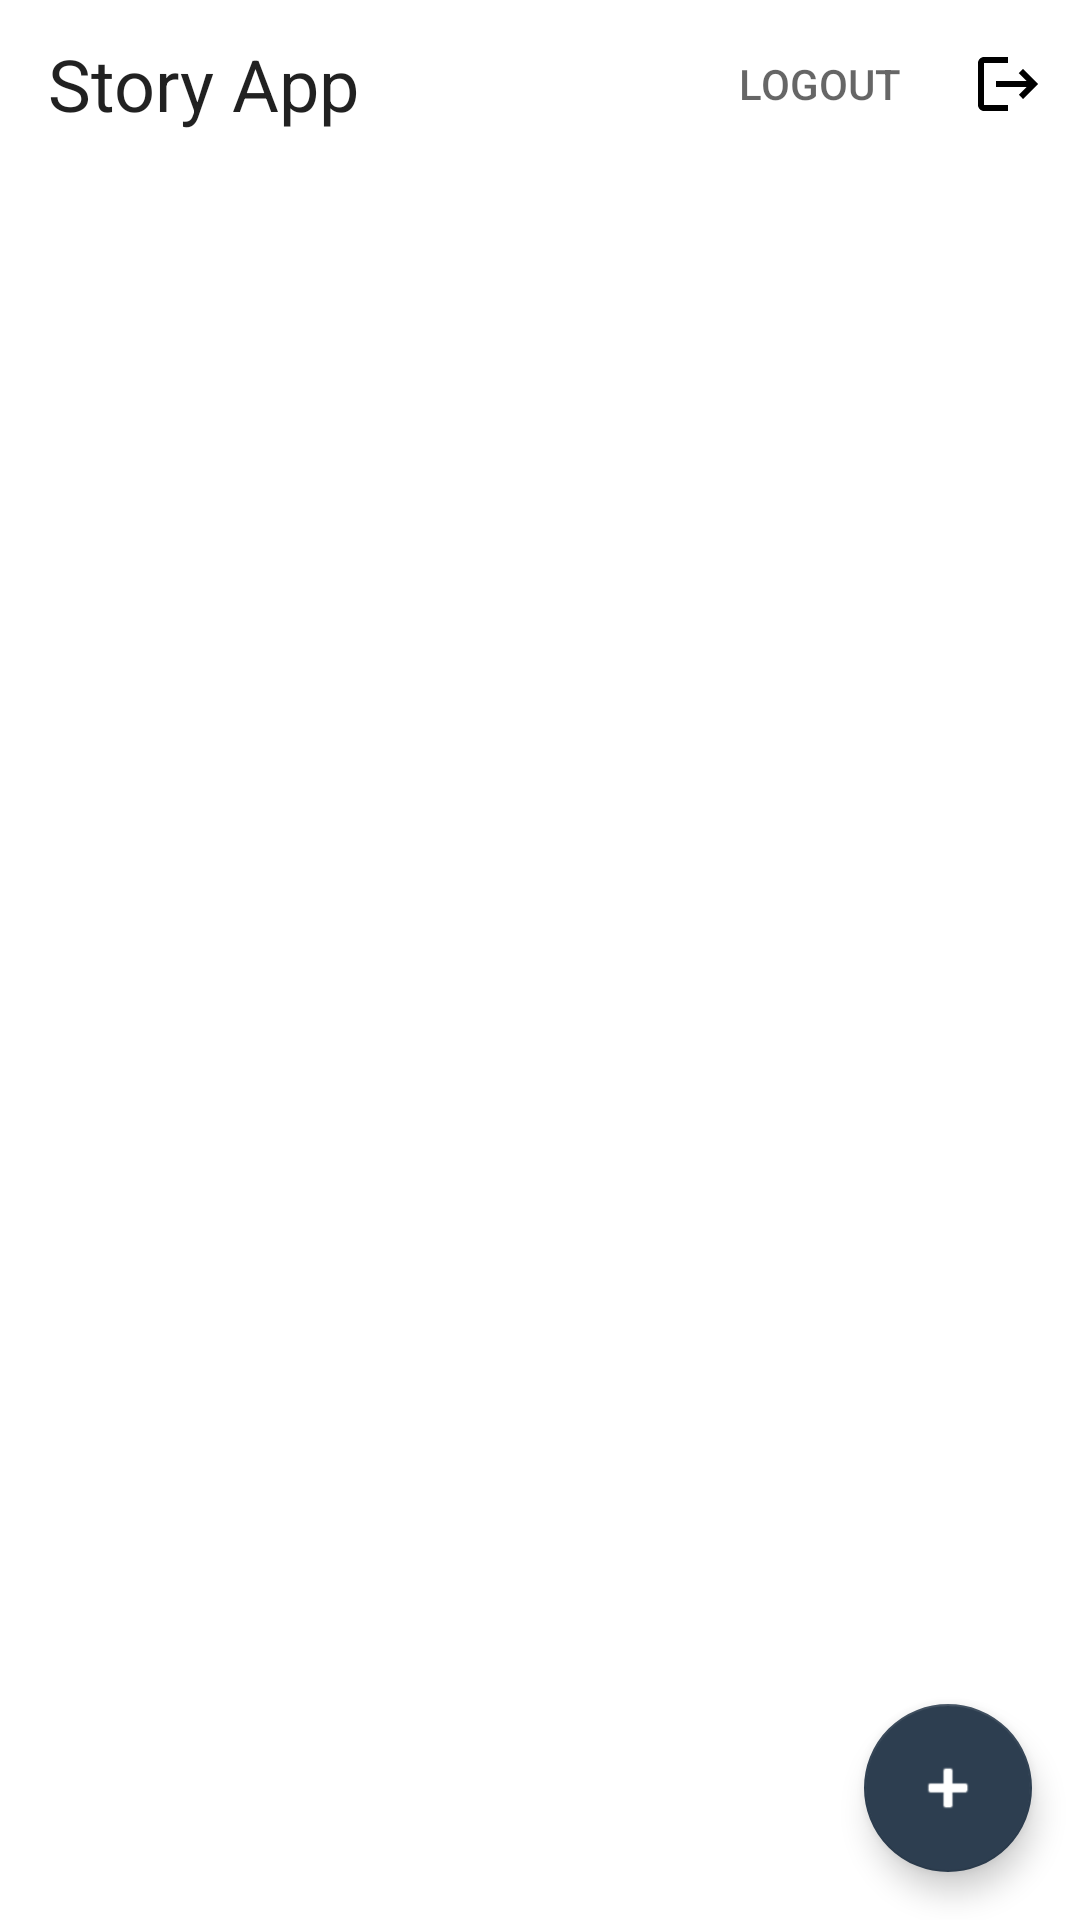

Icon click points for this 1080 × 1920 phone screenshot, format (x,y):
Tambah story baru: (948,1788)
